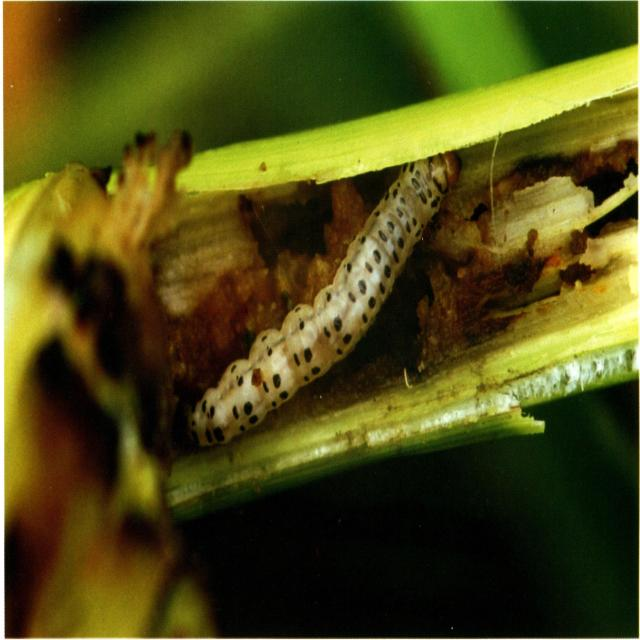peach borer: (188, 152, 473, 446)
